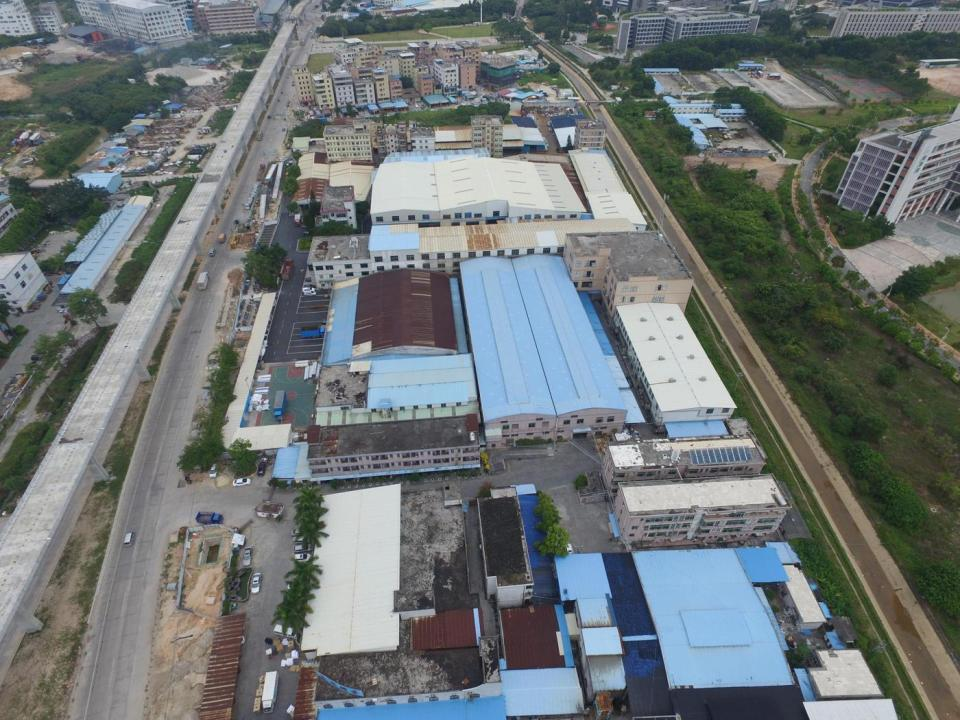bus: (255, 130, 264, 141), (767, 74, 781, 80), (767, 73, 781, 79), (757, 70, 763, 77), (301, 39, 306, 46)
car: (274, 624, 298, 639), (250, 572, 262, 594), (293, 543, 315, 554), (292, 553, 312, 563), (243, 545, 252, 567), (208, 462, 219, 479), (292, 536, 314, 544), (232, 477, 251, 486), (287, 581, 305, 590), (291, 528, 311, 536), (258, 462, 266, 476), (302, 287, 314, 294), (304, 291, 316, 297), (303, 284, 316, 289), (305, 276, 314, 282), (303, 231, 313, 236), (414, 103, 419, 108), (483, 101, 488, 105), (478, 93, 482, 98), (480, 87, 483, 93), (287, 65, 291, 69), (282, 127, 285, 132), (408, 100, 411, 105), (267, 115, 271, 118), (286, 104, 290, 107), (284, 106, 287, 110), (750, 75, 754, 78), (747, 72, 751, 75), (287, 100, 290, 103)
truck: (260, 670, 280, 713), (272, 390, 288, 421), (194, 510, 224, 525), (300, 327, 326, 340), (280, 259, 294, 281), (10, 130, 26, 148), (26, 132, 43, 148), (196, 272, 209, 290), (17, 131, 30, 147), (256, 163, 265, 181), (218, 232, 227, 243), (294, 214, 301, 227), (318, 117, 327, 123), (712, 138, 723, 142), (726, 133, 733, 139), (723, 134, 728, 140)
van: (120, 530, 136, 546), (208, 248, 215, 256), (474, 101, 481, 105), (329, 119, 334, 122)
